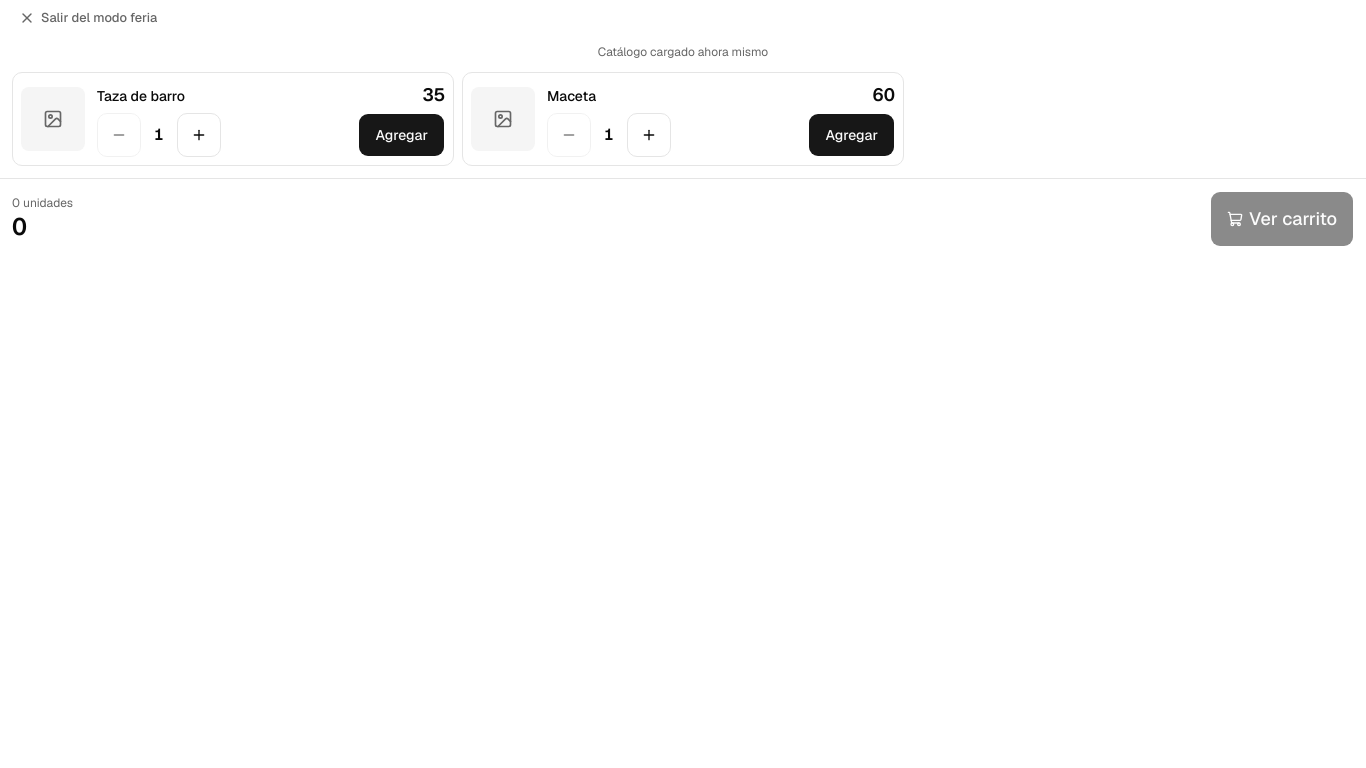
Test: FairScreen › quitar la última línea deja el panel abierto y sin poder registrar
Expected: the number of elements with test id "fair-product" is 2, [12,72,454,166]; [462,72,904,166]
Click the button "Agregar" below "35" at (402, 135), box [358,113,445,157]
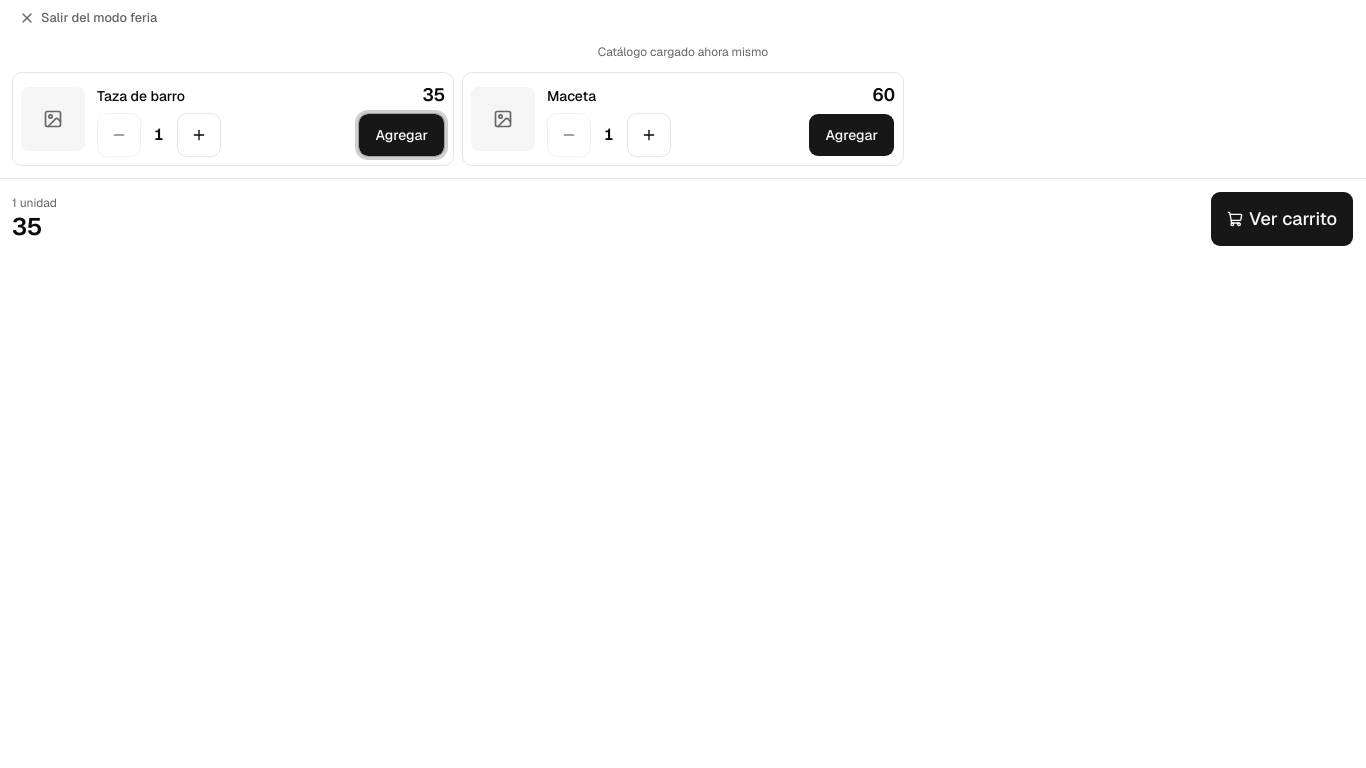
Click the button "Ver carrito" at (1282, 219), box [1210,191,1354,247]
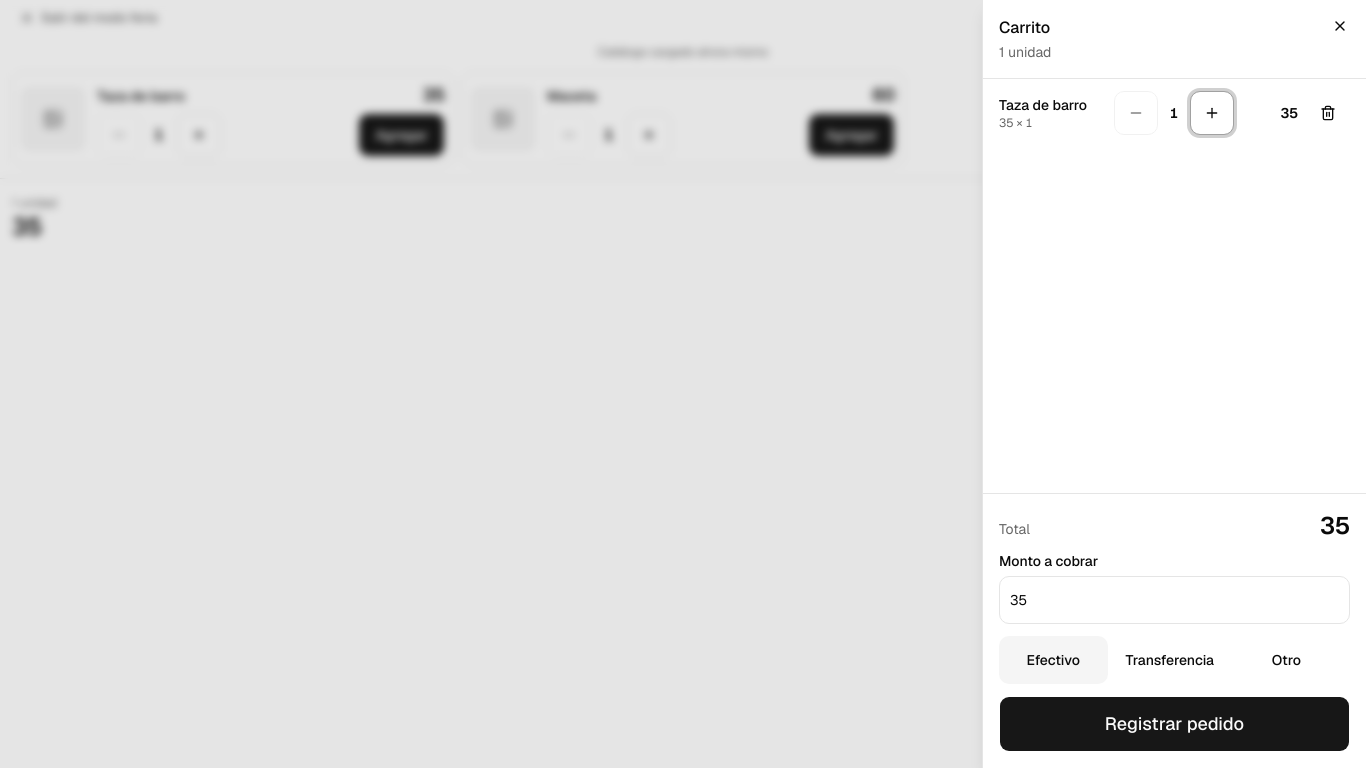
Click the button named "Quitar Taza de barro" at (1328, 113), box [1306,91,1350,135]
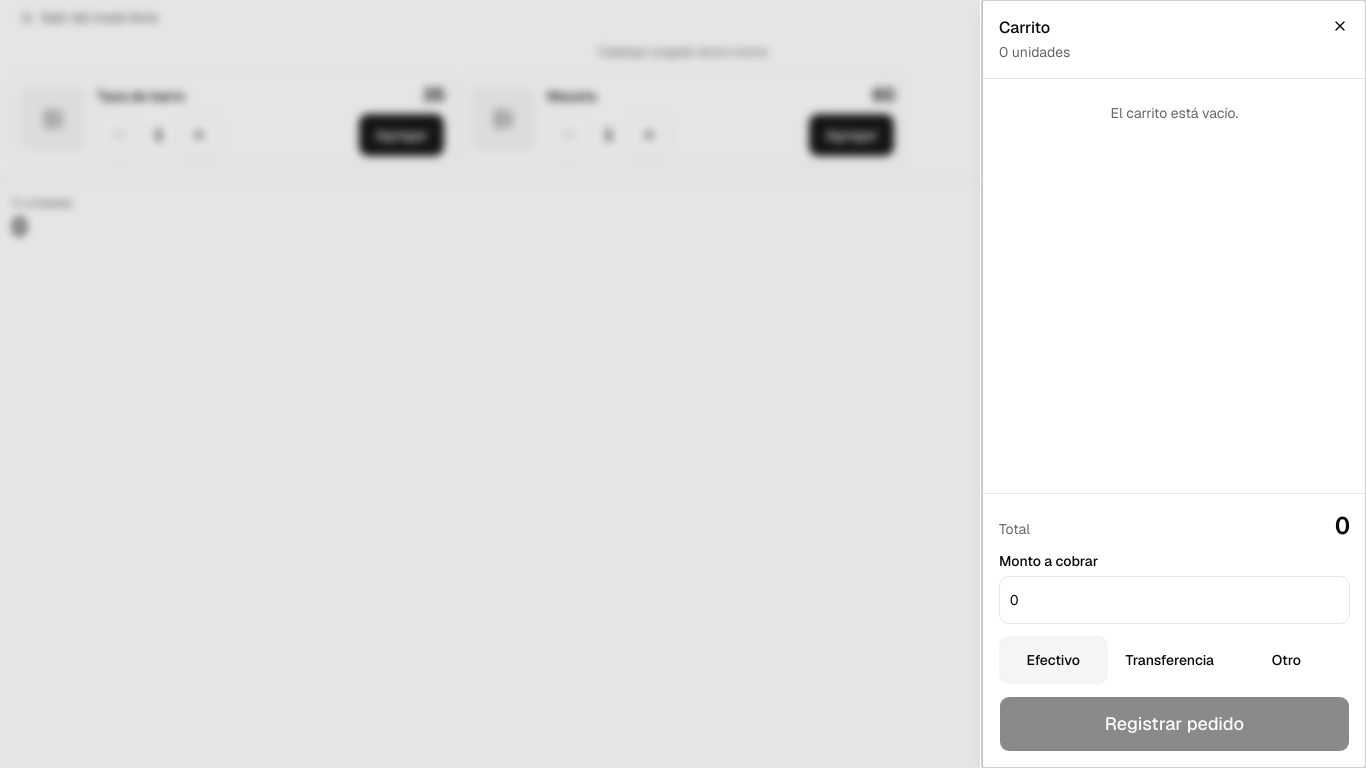
Now the text "El carrito está vacío." is shown, box [1110,104,1238,122]
Now the button "Registrar pedido" is disabled, box [999,696,1350,752]
Now the text with test id "cart-total" reads "0", box [12,211,27,242]
